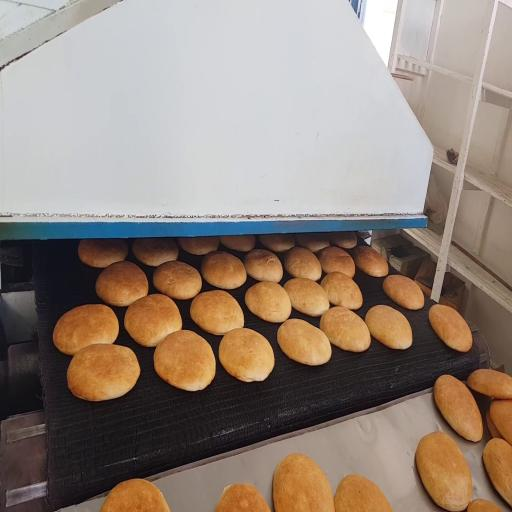bread: (416, 432, 472, 511), (67, 345, 140, 401), (154, 330, 215, 391), (273, 454, 334, 511), (53, 305, 118, 355), (434, 375, 483, 441), (124, 294, 182, 347), (219, 329, 274, 382), (277, 319, 331, 365), (96, 261, 148, 306), (190, 291, 243, 335), (320, 307, 370, 352), (100, 479, 169, 511), (365, 305, 412, 349), (429, 304, 472, 352), (335, 475, 392, 511), (153, 261, 202, 300), (245, 282, 291, 323), (483, 439, 511, 506), (284, 278, 329, 316), (201, 252, 246, 289), (321, 272, 362, 310), (215, 484, 270, 511), (78, 239, 128, 268), (383, 275, 424, 310), (467, 369, 511, 399), (132, 238, 178, 266), (284, 247, 321, 281), (244, 249, 282, 282), (318, 247, 355, 277), (355, 246, 388, 277), (490, 400, 511, 444), (178, 236, 219, 256), (259, 234, 295, 252), (295, 233, 329, 252), (220, 235, 255, 252), (329, 232, 357, 248), (486, 410, 502, 438), (467, 499, 501, 511)
